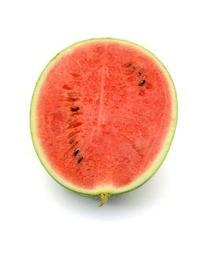watermelon: (28, 35, 181, 196)
